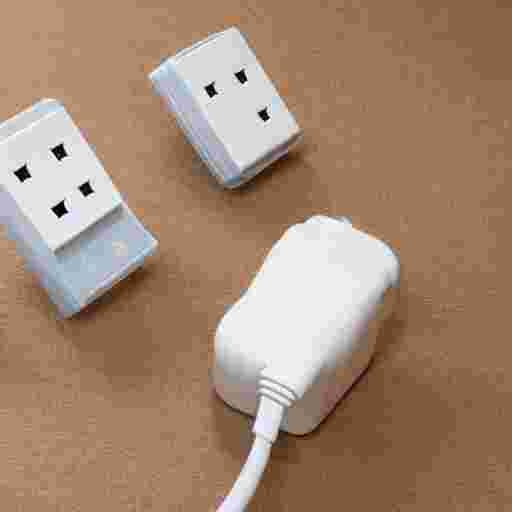power outlet: (0, 99, 156, 316), (149, 27, 301, 187)
